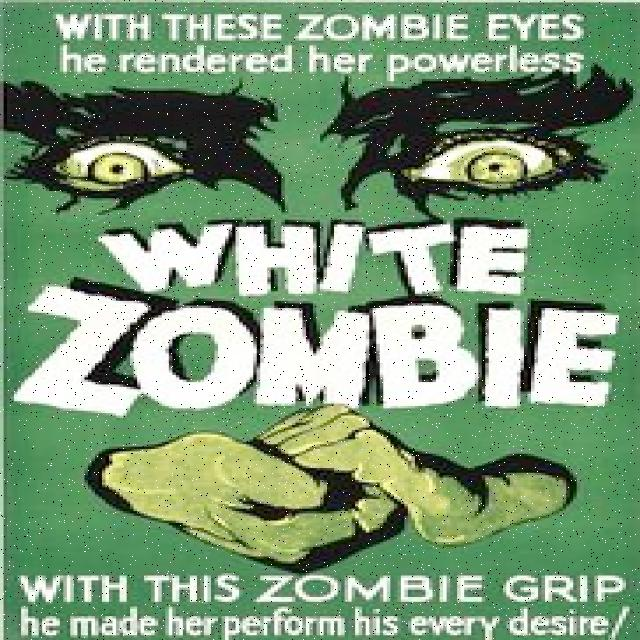movie-judul: (25, 218, 619, 432)
picture: (0, 69, 640, 210), (69, 409, 608, 567)
